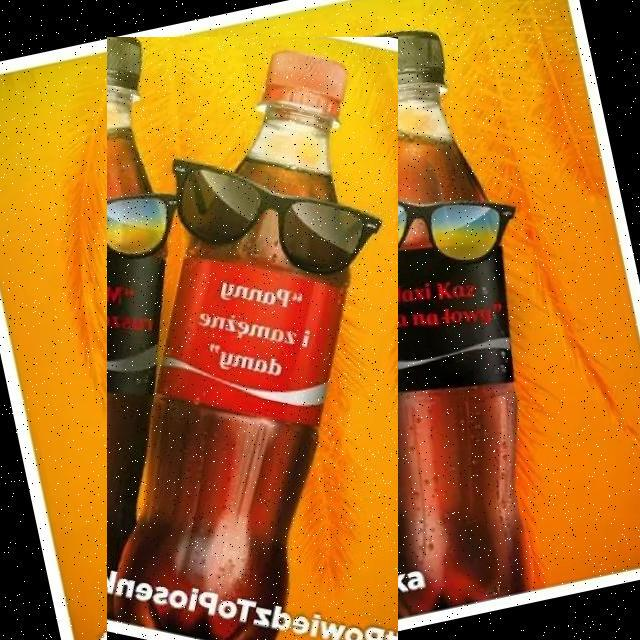coca-cola: (279, 18, 573, 620), (107, 37, 398, 640)
